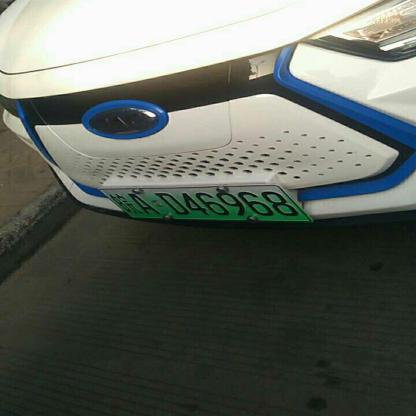lp: (100, 184, 310, 222)
